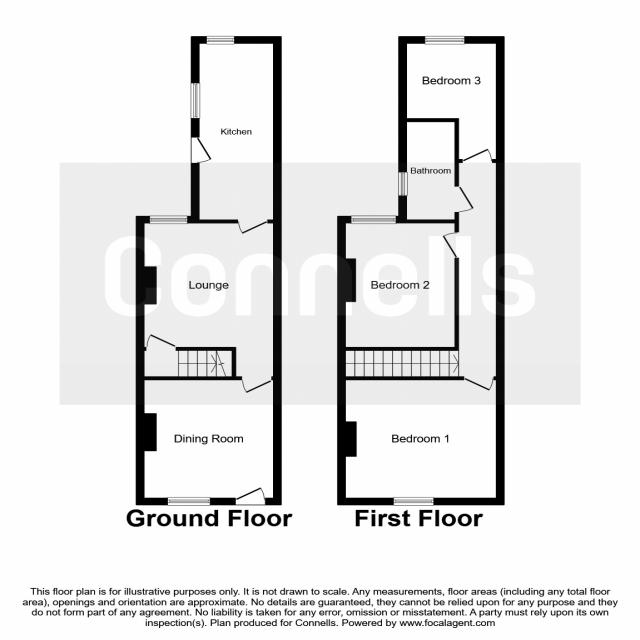DOOR: (190, 137, 213, 164), (235, 486, 266, 506), (454, 185, 475, 213), (241, 376, 273, 394), (146, 333, 177, 351), (440, 231, 460, 258), (461, 148, 493, 164), (463, 376, 495, 392), (237, 219, 268, 235)
ROOM: (135, 215, 282, 394), (336, 376, 505, 505), (135, 376, 282, 506), (190, 36, 282, 235), (336, 215, 460, 351), (398, 36, 505, 163)
WINDOW: (167, 496, 210, 506), (350, 215, 397, 224), (393, 496, 435, 506), (424, 35, 465, 45), (190, 82, 201, 119), (149, 215, 188, 224), (397, 171, 408, 196), (206, 36, 235, 45)
